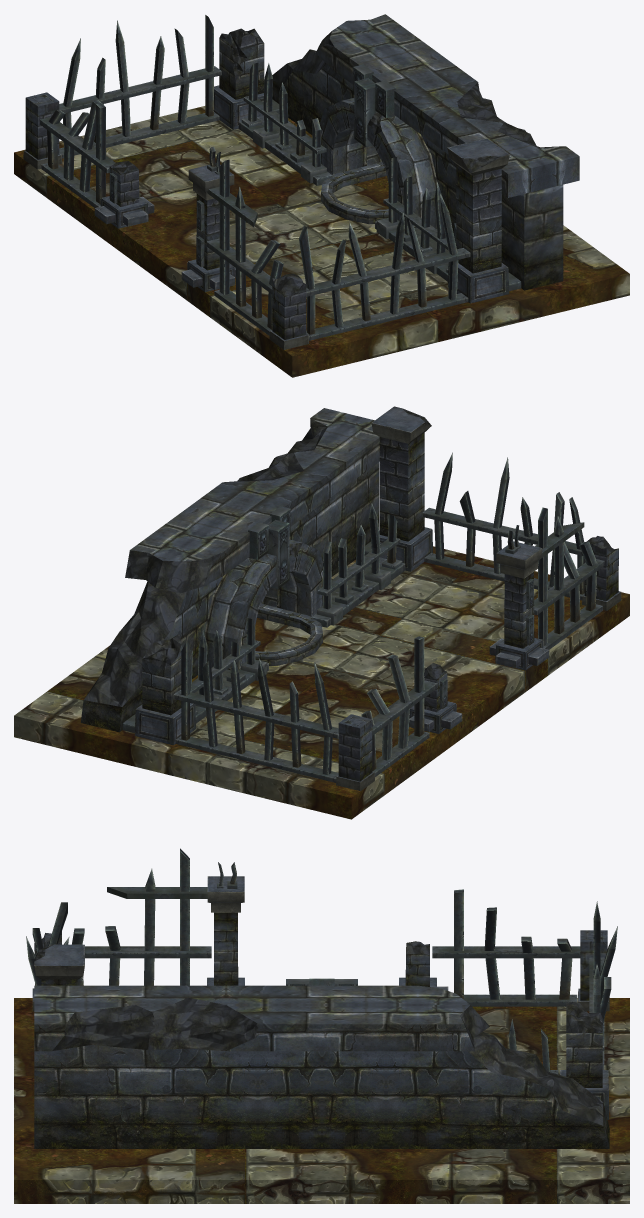
File: C_bridgeend001.fbx
3 views of the same model, one above another, from view 1: azimuth 30°, elevation 25°; view 2: azimuth 150°, elevation 25°; view 3: azimuth 270°, elevation 25° (orthographic). The views are drawn at different scales.
Visible parts, largest first — view 1: C_bridgeend001; view 2: C_bridgeend001; view 3: C_bridgeend001.
Boxes of the visible parts, x1,y1,x2,y2 form: C_bridgeend001: [14, 14, 629, 377]; C_bridgeend001: [14, 406, 629, 819]; C_bridgeend001: [14, 848, 629, 1203].
Bounding box in the file's own units: 863 × 383 × 1200.
